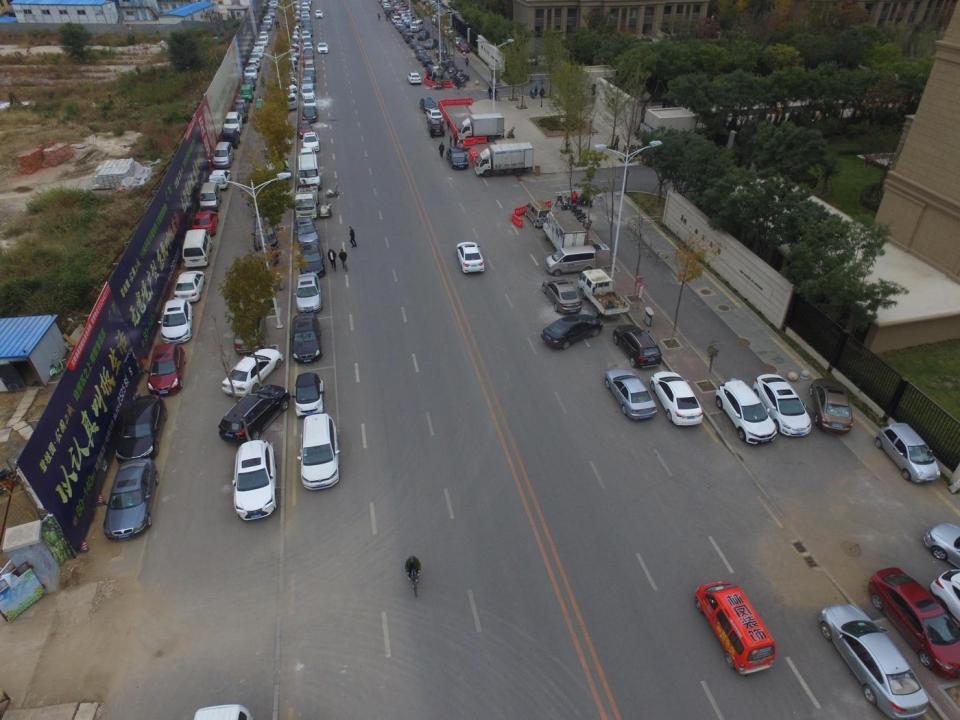car: (818, 602, 929, 717), (868, 567, 959, 676), (102, 460, 159, 541), (218, 383, 289, 444), (874, 422, 941, 486), (714, 380, 777, 445), (754, 373, 811, 439), (232, 442, 277, 521), (116, 396, 166, 462), (299, 414, 340, 492), (650, 370, 703, 428), (221, 348, 282, 398), (605, 369, 656, 420), (809, 378, 855, 434), (543, 311, 601, 349), (614, 324, 662, 369), (147, 343, 186, 396), (291, 313, 323, 364), (292, 374, 327, 418), (233, 306, 266, 352), (237, 248, 278, 285), (160, 299, 193, 344), (542, 278, 582, 315), (295, 272, 322, 316), (174, 270, 206, 303), (250, 218, 279, 252), (454, 242, 484, 274), (299, 244, 325, 276), (295, 218, 319, 248), (192, 210, 218, 234), (448, 148, 469, 170), (426, 118, 445, 138), (300, 132, 319, 152), (210, 170, 231, 188), (222, 127, 240, 146), (299, 148, 317, 166), (419, 96, 436, 115), (232, 105, 248, 124), (298, 120, 314, 138), (302, 105, 317, 123), (300, 86, 315, 102), (426, 110, 443, 124), (302, 96, 317, 111), (241, 76, 255, 90), (235, 98, 250, 111), (407, 71, 421, 84), (245, 67, 258, 80), (302, 70, 316, 82), (302, 77, 314, 90), (424, 38, 437, 50), (257, 36, 269, 47), (301, 55, 312, 67), (458, 42, 470, 53), (421, 56, 433, 67), (317, 43, 328, 54), (253, 42, 264, 53), (249, 52, 260, 63), (249, 60, 260, 71), (302, 42, 313, 53), (404, 33, 415, 44), (262, 16, 274, 26), (301, 30, 311, 42), (415, 51, 427, 61), (417, 31, 429, 41), (437, 42, 446, 55), (303, 48, 314, 58), (302, 38, 313, 48), (453, 37, 464, 47), (426, 64, 437, 74), (409, 39, 420, 49), (443, 25, 452, 37), (253, 48, 263, 58), (447, 32, 457, 42), (413, 45, 424, 54), (394, 21, 405, 30), (259, 31, 269, 40), (402, 30, 411, 39), (314, 10, 324, 18), (398, 25, 406, 34), (391, 16, 400, 24), (268, 10, 276, 18), (260, 26, 268, 34), (262, 23, 271, 30), (268, 6, 275, 14), (270, 1, 277, 9)
truck: (578, 269, 629, 319), (474, 142, 533, 178), (543, 210, 586, 253), (456, 113, 505, 143), (294, 183, 321, 217)
van: (694, 578, 778, 673), (544, 246, 596, 278), (182, 230, 212, 267), (298, 154, 322, 190), (525, 200, 552, 229), (198, 182, 221, 211), (212, 142, 234, 168), (224, 111, 244, 135), (238, 85, 253, 103), (411, 19, 423, 34), (304, 60, 315, 74)
